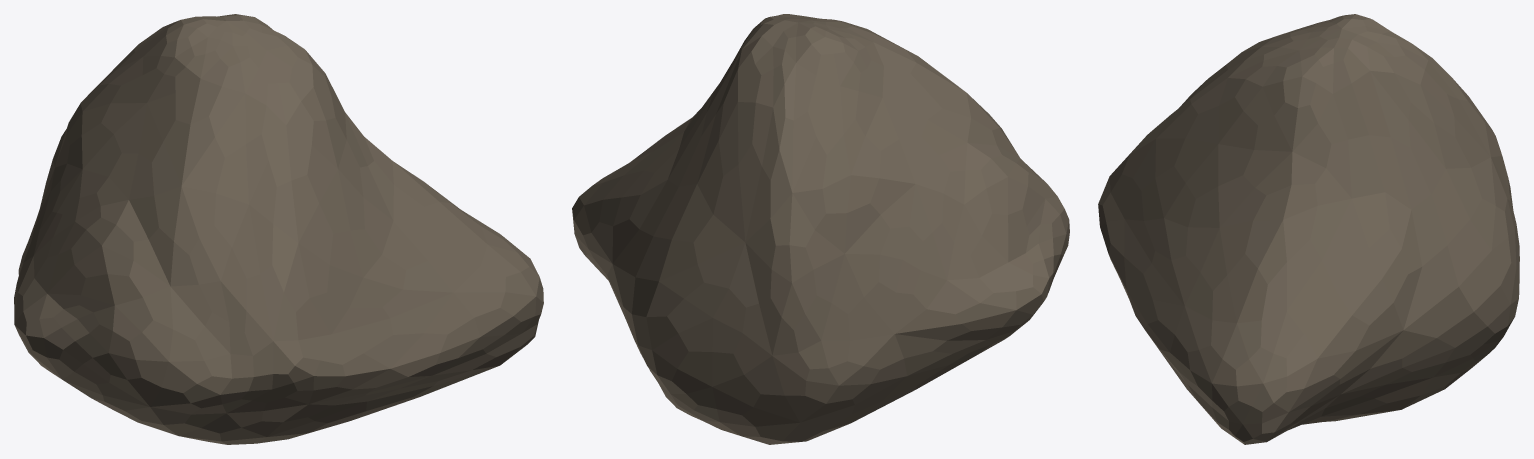
Rendered from rock_5.fbx.
3 views of the same model, side by side, from view 1: azimuth 30°, elevation 25°; view 2: azimuth 150°, elevation 25°; view 3: azimuth 270°, elevation 25° (orthographic). The views are drawn at different scales.
Parts seen in each view (by area): view 1: rock 5; view 2: rock 5; view 3: rock 5.
Part boxes in pixels (left/top/right/bottom): rock 5: left=14, top=14, right=543, bottom=444; rock 5: left=572, top=14, right=1069, bottom=444; rock 5: left=1098, top=14, right=1519, bottom=444.
Size of the model in its own units: 459 by 350 by 379.
